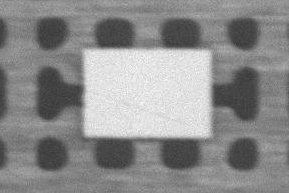DIE_CRACK: (133, 61, 279, 83)
